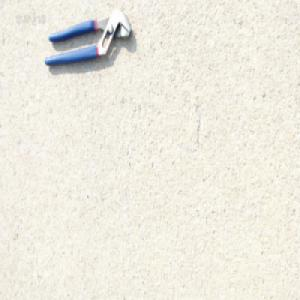Pliers: (43, 9, 131, 67)
